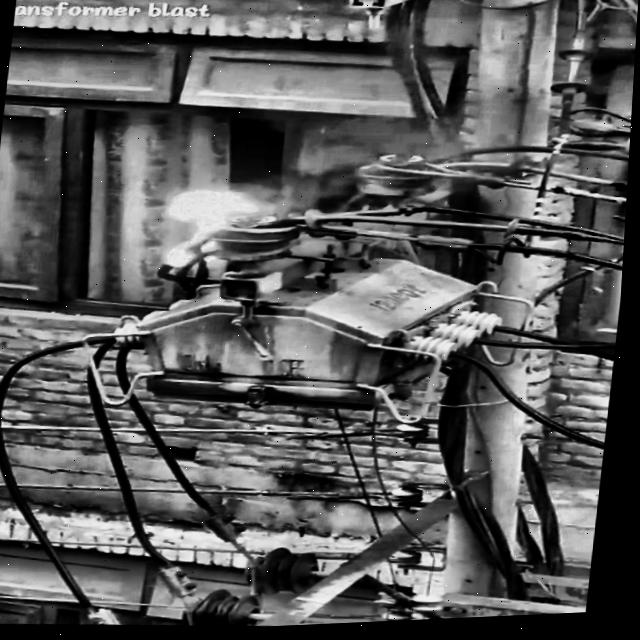Fire: (137, 177, 269, 286)
